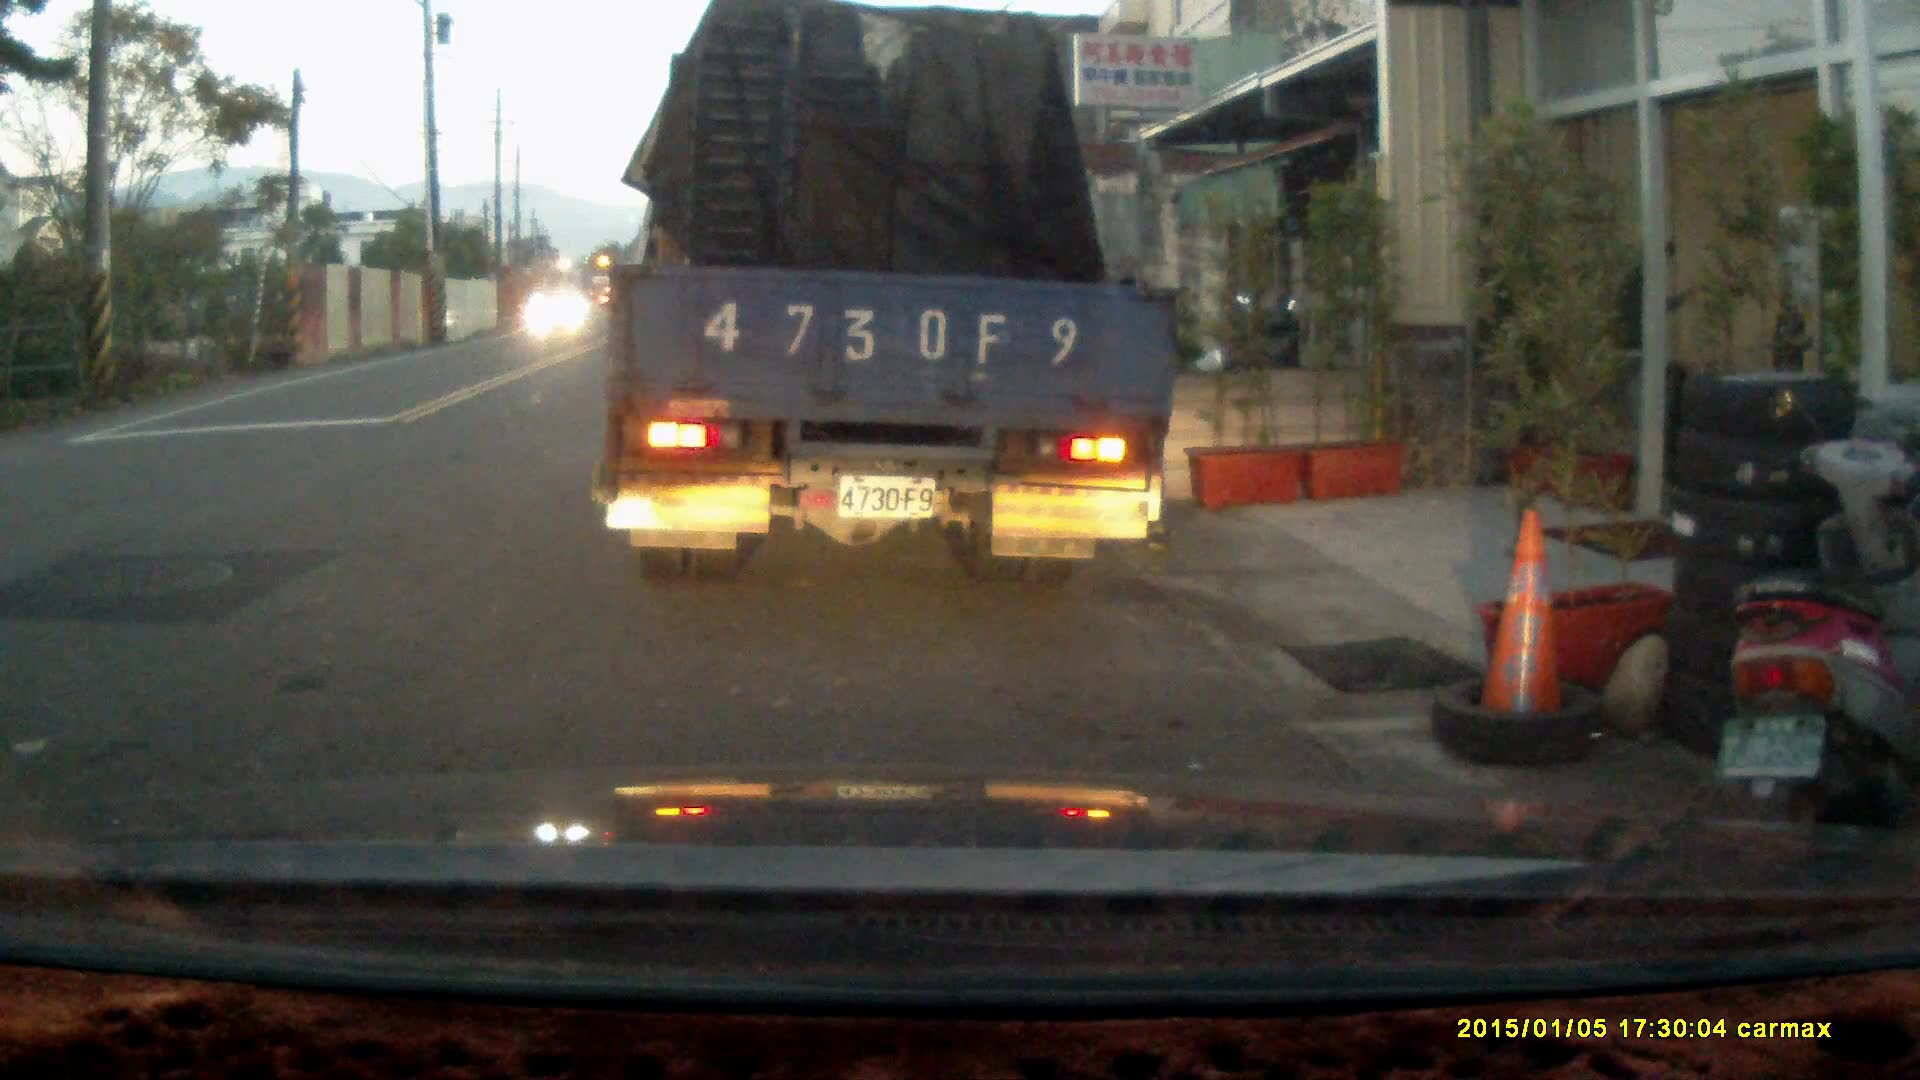pedestrian: (1613, 233, 1684, 478), (1764, 231, 1830, 447)
vehicle: (605, 23, 1188, 572)
